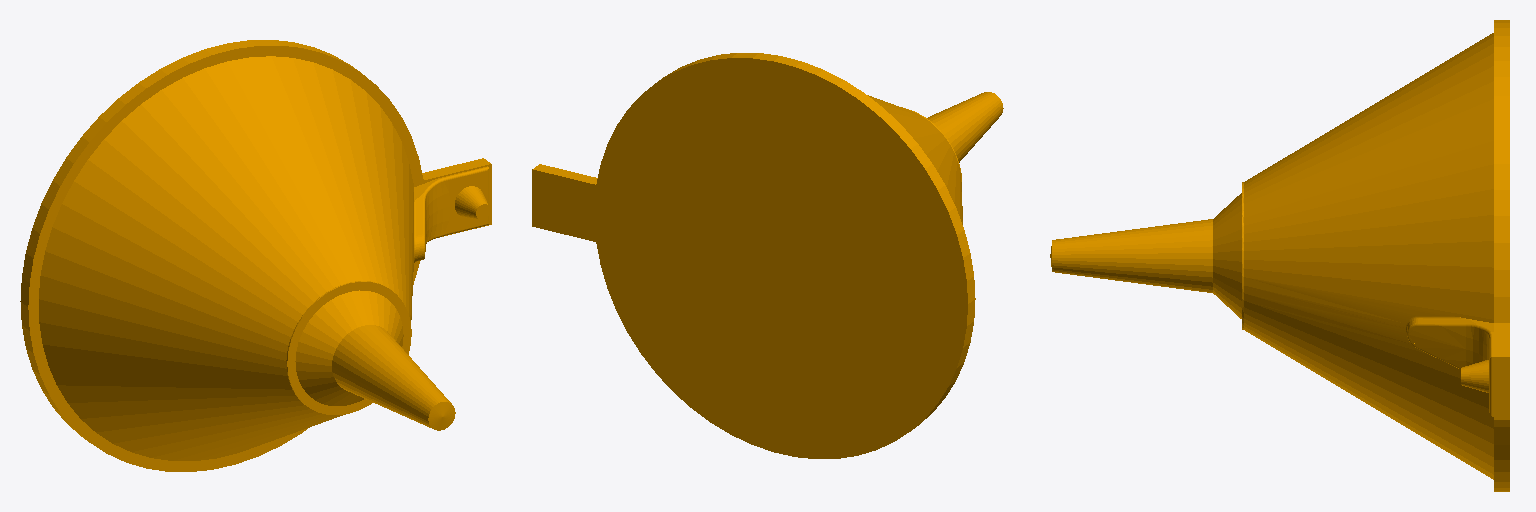
URDF robot description (funnel-solid.off):
<?xml version="1.0"?>
<robot name="funnel-solid.off">
	<link name="funnel-solid.off">
		<inertial>
			<!--origin xyz="0 0 0" rpy="0 0 0" /-->
			<mass value="0.5" />
			<!--inertia ixx="0.000360" ixy="0" ixz="0" iyy="0.0000615" iyz="0" izz="0.00036" /-->
		</inertial>
    		<visual>
	      		<!--origin rpy="0 0 0" xyz="0 0 0"/-->
      			<geometry>
        			<mesh filename="funnel-solid.off.obj"/>
      			</geometry>
         	</visual>
    		<collision>
      			<!--origin rpy="0 0 0" xyz="0 0 0"/-->
      			<geometry>
        			<mesh filename="funnel-solid.off.obj"/>
      			</geometry>
    		</collision>
	</link>
</robot>

--- What the picture shows (computed from the rendered views, not written in the file) ---
3 views of the same robot in one strip: view 1: azimuth 30°, elevation 25°; view 2: azimuth 150°, elevation 25°; view 3: azimuth 270°, elevation 25° (orthographic).
Robot: funnel-solid.off — 1 links, 0 joints (none); root link funnel-solid.off; default pose: all joints at 0.
Visible links, largest first — view 1: funnel-solid.off; view 2: funnel-solid.off; view 3: funnel-solid.off.
Boxes of the visible links, x1=… form: funnel-solid.off: x1=20, y1=40, x2=491, y2=471; funnel-solid.off: x1=532, y1=53, x2=1003, y2=458; funnel-solid.off: x1=1050, y1=20, x2=1509, y2=491.
Size in the robot's own frame: 9.54 by 7.98 by 8.18 metres.
1 mesh visuals loaded from 1 distinct referenced files (1 OBJ).